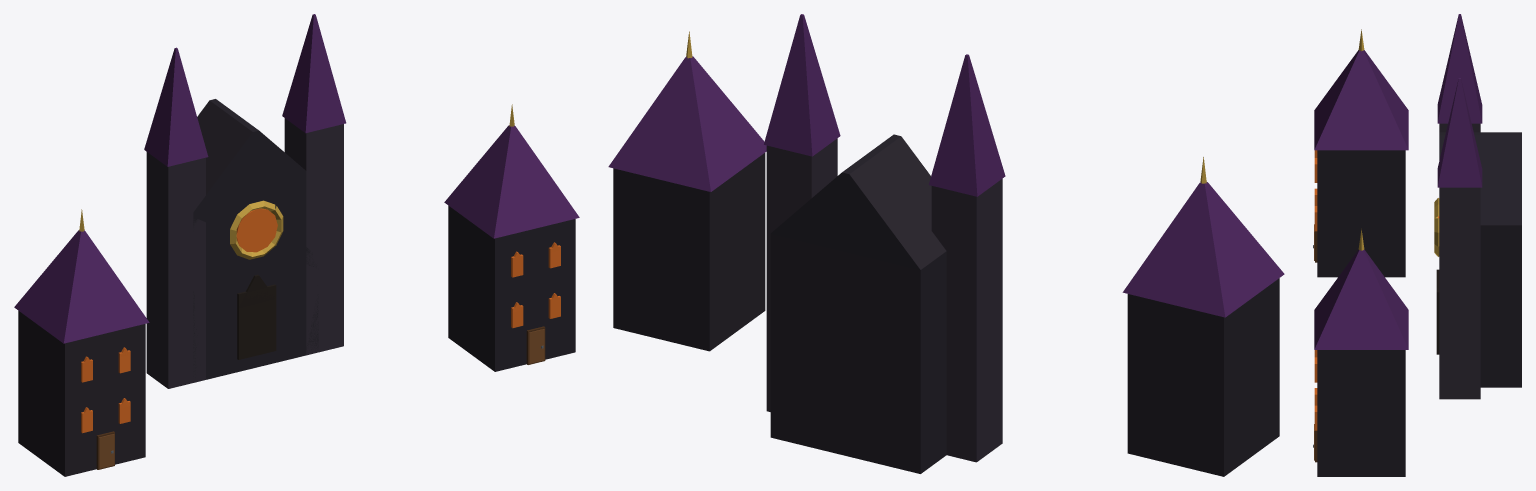
Rendered from demon_court_broken.glb.
3 renders of one model, left to right at view 1: azimuth 30°, elevation 25°; view 2: azimuth 150°, elevation 25°; view 3: azimuth 270°, elevation 25°, orthographic. The views are drawn at different scales.
Parts seen in each view (by area): view 1: demon_court_piece1, demon_court_piece2, demon_court_piece13, demon_court_piece5, demon_court_piece10, demon_court_piece0, demon_court_piece9, demon_court_piece6, demon_court_piece4, demon_court_piece8, demon_court_piece11, demon_court_piece3 (+2 smaller); view 2: demon_court_piece5, demon_court_piece7, demon_court_piece6, demon_court_piece9, demon_court_piece1, demon_court_piece4, demon_court_piece2, demon_court_piece12, demon_court_piece3, demon_court_piece0; view 3: demon_court_piece9, demon_court_piece2, demon_court_piece5, demon_court_piece11, demon_court_piece13, demon_court_piece10, demon_court_piece0, demon_court_piece1, demon_court_piece7, demon_court_piece6, demon_court_piece4, demon_court_piece3 (+1 smaller).
Part boxes in pixels (x1=…): demon_court_piece1: x1=303, y1=137, x2=559, y2=371; demon_court_piece2: x1=166, y1=14, x2=346, y2=269; demon_court_piece13: x1=170, y1=207, x2=333, y2=376; demon_court_piece5: x1=14, y1=236, x2=107, y2=474; demon_court_piece10: x1=61, y1=299, x2=149, y2=476; demon_court_piece0: x1=164, y1=122, x2=335, y2=275; demon_court_piece9: x1=448, y1=184, x2=579, y2=367; demon_court_piece6: x1=146, y1=223, x2=185, y2=386; demon_court_piece4: x1=144, y1=70, x2=215, y2=250; demon_court_piece8: x1=175, y1=229, x2=217, y2=384; demon_court_piece11: x1=74, y1=209, x2=132, y2=325; demon_court_piece3: x1=327, y1=104, x2=522, y2=291; demon_court_piece5: x1=1122, y1=194, x2=1284, y2=476; demon_court_piece7: x1=770, y1=161, x2=929, y2=391; demon_court_piece6: x1=770, y1=248, x2=1002, y2=465; demon_court_piece9: x1=608, y1=97, x2=736, y2=351; demon_court_piece1: x1=658, y1=78, x2=766, y2=330; demon_court_piece4: x1=865, y1=85, x2=1002, y2=373; demon_court_piece2: x1=764, y1=14, x2=995, y2=270; demon_court_piece12: x1=887, y1=386, x2=1002, y2=473; demon_court_piece3: x1=668, y1=31, x2=710, y2=154; demon_court_piece0: x1=766, y1=137, x2=1005, y2=316; demon_court_piece9: x1=1313, y1=286, x2=1408, y2=476; demon_court_piece2: x1=1434, y1=14, x2=1507, y2=328; demon_court_piece5: x1=1314, y1=54, x2=1408, y2=277; demon_court_piece11: x1=1317, y1=29, x2=1386, y2=193; demon_court_piece13: x1=1435, y1=253, x2=1512, y2=399; demon_court_piece10: x1=1313, y1=124, x2=1351, y2=277; demon_court_piece0: x1=1434, y1=82, x2=1521, y2=334; demon_court_piece1: x1=1314, y1=262, x2=1454, y2=405; demon_court_piece7: x1=1495, y1=132, x2=1521, y2=350; demon_court_piece6: x1=1507, y1=311, x2=1521, y2=387; demon_court_piece4: x1=1466, y1=36, x2=1482, y2=132; demon_court_piece3: x1=1349, y1=228, x2=1444, y2=335.
Bounding box in the file's own units: 5.76 × 3.5 × 2.12.
